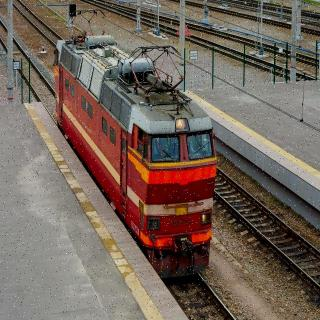poezd: (55, 31, 217, 275)
